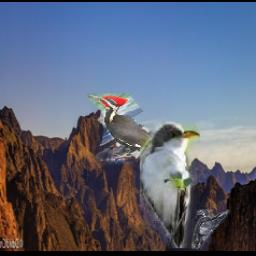Crow: (190, 210, 228, 250)
Cuckoo: (140, 122, 200, 248)
Woodpecker: (86, 93, 173, 195)
